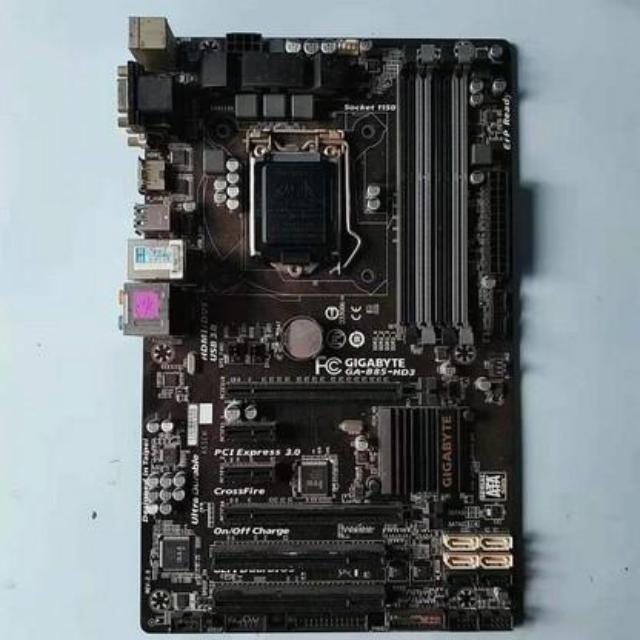Mainboard: (124, 13, 526, 635)
